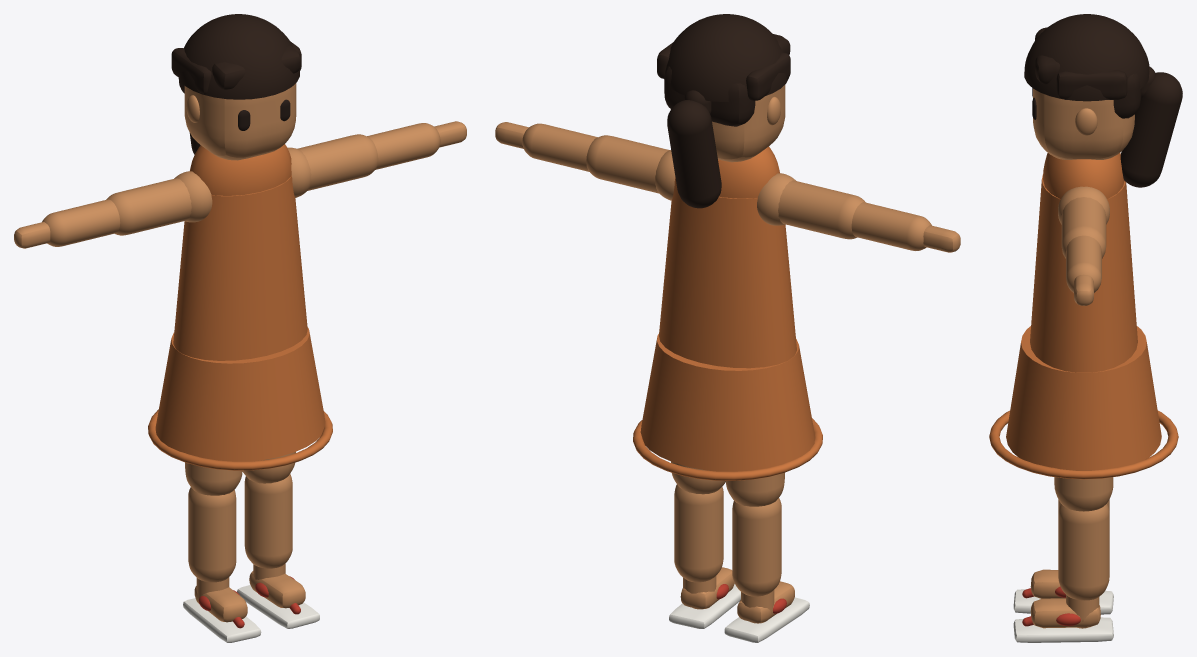
File: nina.glb
3 renders of one model, left to right at view 1: azimuth 30°, elevation 25°; view 2: azimuth 150°, elevation 25°; view 3: azimuth 270°, elevation 25°, orthographic. The views are drawn at different scales.
Visible parts, largest first — view 1: nina_dress_bodice, nina_dress_skirt, nina_hair_cap, nina_head, nina_calf_l, nina_calf_r, nina_top_shoulders, nina_upperarm_l, nina_upperarm_r, nina_forearm_l, nina_forearm_r, nina_dress_hem (+11 smaller); view 2: nina_dress_bodice, nina_dress_skirt, nina_hair_cap, nina_ponytail, nina_calf_l, nina_calf_r, nina_upperarm_l, nina_upperarm_r, nina_head, nina_forearm_l, nina_forearm_r, nina_dress_hem (+12 smaller); view 3: nina_dress_skirt, nina_dress_bodice, nina_hair_cap, nina_head, nina_calf_r, nina_ponytail, nina_top_shoulders, nina_dress_hem, nina_upperarm_r, nina_sole_r, nina_thigh_r, nina_hair_side_r (+10 smaller).
Boxes of the visible parts, x1,y1,x2,y2 form: nina_dress_bodice: (173,175,307,360); nina_dress_skirt: (155,327,325,461); nina_hair_cap: (178,14,299,99); nina_head: (184,83,296,160); nina_calf_l: (188,487,236,582); nina_calf_r: (244,474,292,568); nina_top_shoulders: (190,144,291,195); nina_upperarm_l: (106,178,191,235); nina_upperarm_r: (297,134,378,190); nina_forearm_l: (42,199,120,246); nina_forearm_r: (367,123,440,169); nina_dress_hem: (148,409,332,470); nina_dress_bodice: (659,177,796,368); nina_dress_skirt: (640,334,815,471); nina_hair_cap: (664,14,788,101); nina_ponytail: (667,100,721,208); nina_calf_l: (732,498,781,596); nina_calf_r: (674,484,723,582); nina_upperarm_l: (778,180,865,239); nina_upperarm_r: (586,135,669,193); nina_head: (670,85,785,162); nina_forearm_l: (851,202,931,250); nina_forearm_r: (522,123,597,171); nina_dress_hem: (633,418,822,480); nina_dress_skirt: (1006,326,1161,470); nina_dress_bodice: (1030,174,1137,372); nina_hair_cap: (1024,14,1149,101); nina_head: (1033,88,1134,159); nina_calf_r: (1058,504,1109,600); nina_ponytail: (1120,72,1182,187); nina_top_shoulders: (1043,153,1124,199); nina_dress_hem: (989,410,1178,479); nina_upperarm_r: (1061,197,1106,258); nina_sole_r: (1013,617,1113,642); nina_thigh_r: (1054,477,1113,511); nina_hair_side_r: (1056,70,1127,99).
Bounding box in the file's own units: 1.07 × 1.33 × 0.389.
